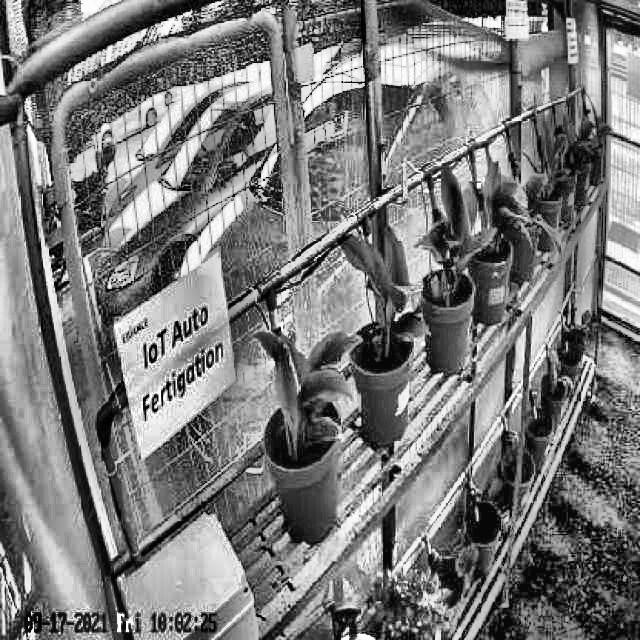plants: (254, 324, 358, 460), (417, 161, 497, 307), (336, 222, 412, 370), (466, 158, 520, 255)
